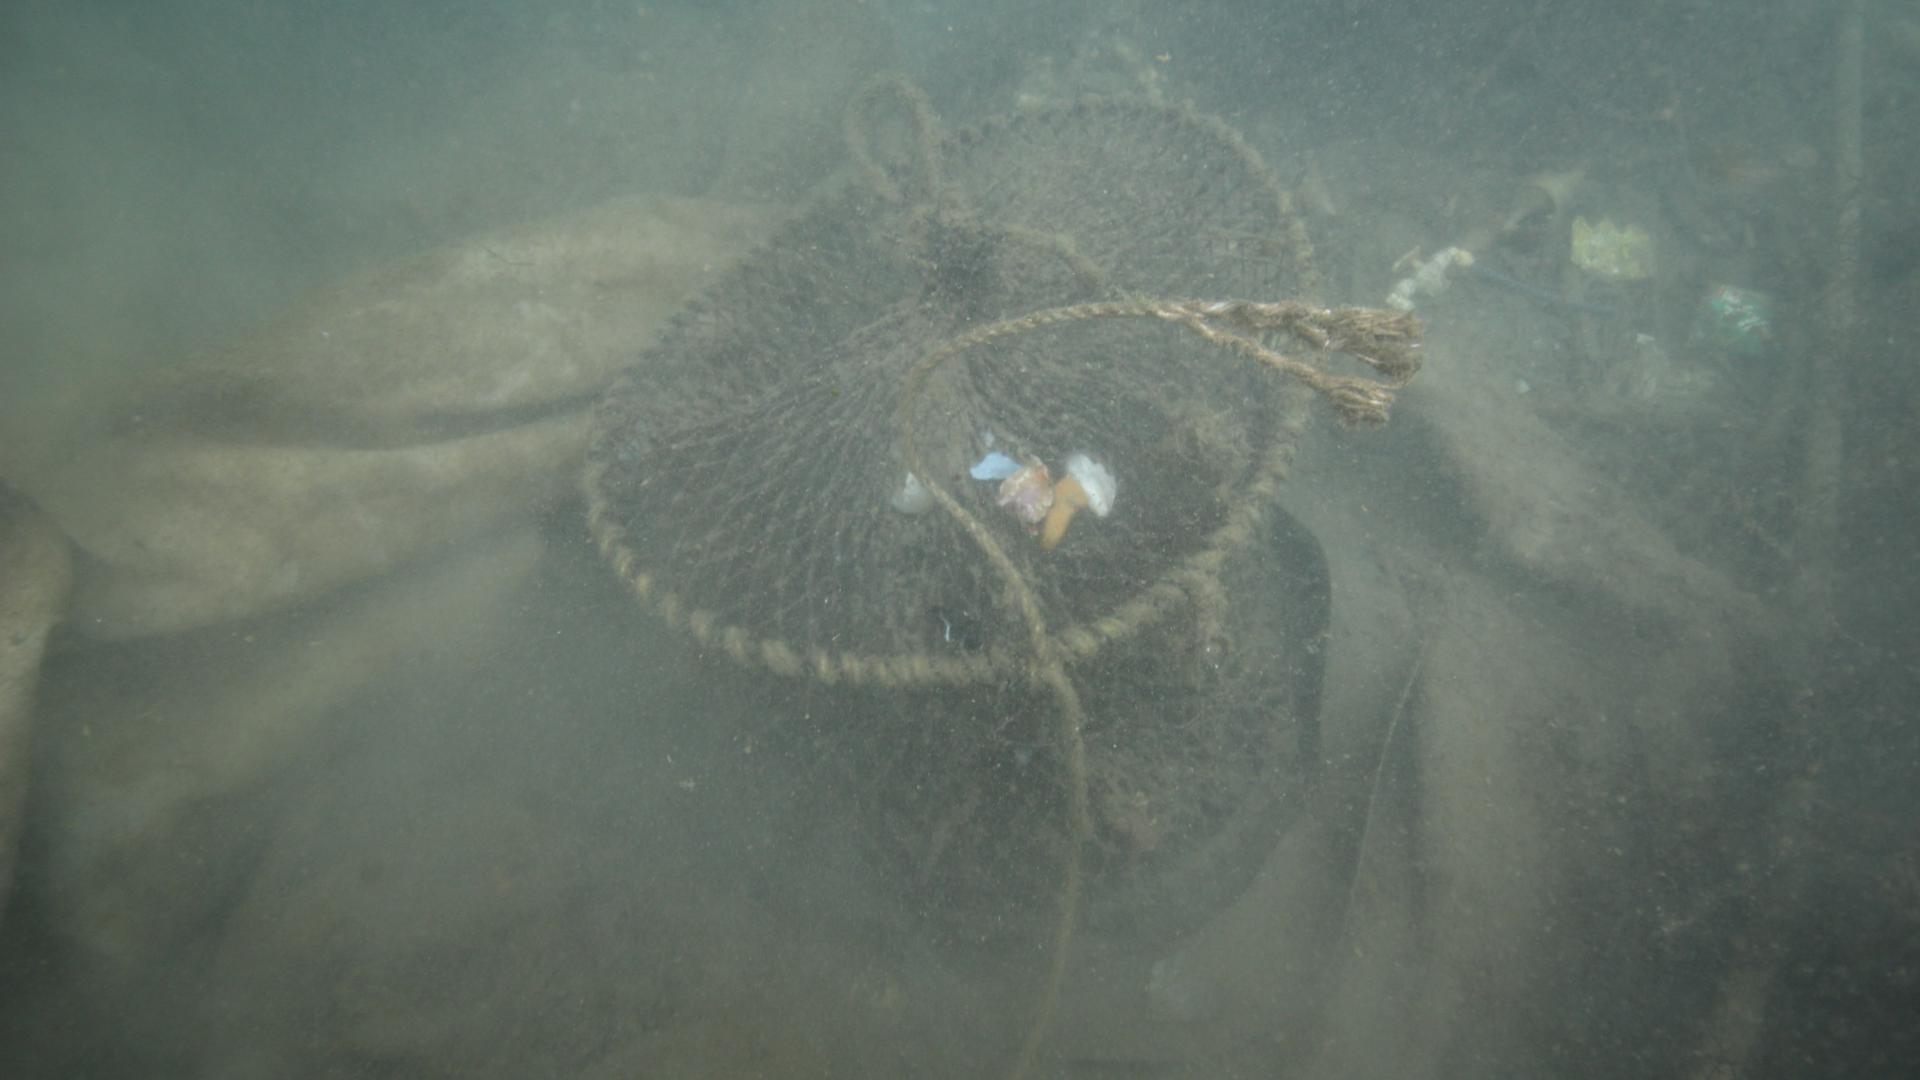circular fish trap: (580, 88, 1329, 887)
rope: (880, 278, 1185, 1080)
